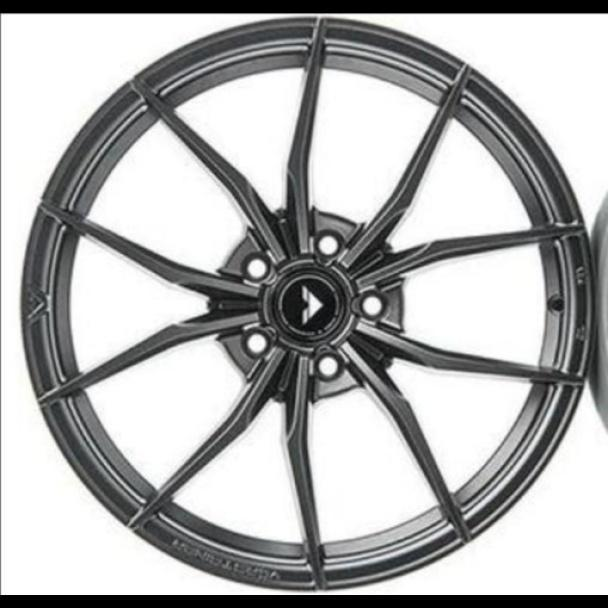hole: (310, 228, 345, 260), (354, 290, 387, 321), (238, 251, 272, 281), (310, 349, 341, 380), (240, 328, 269, 359)
